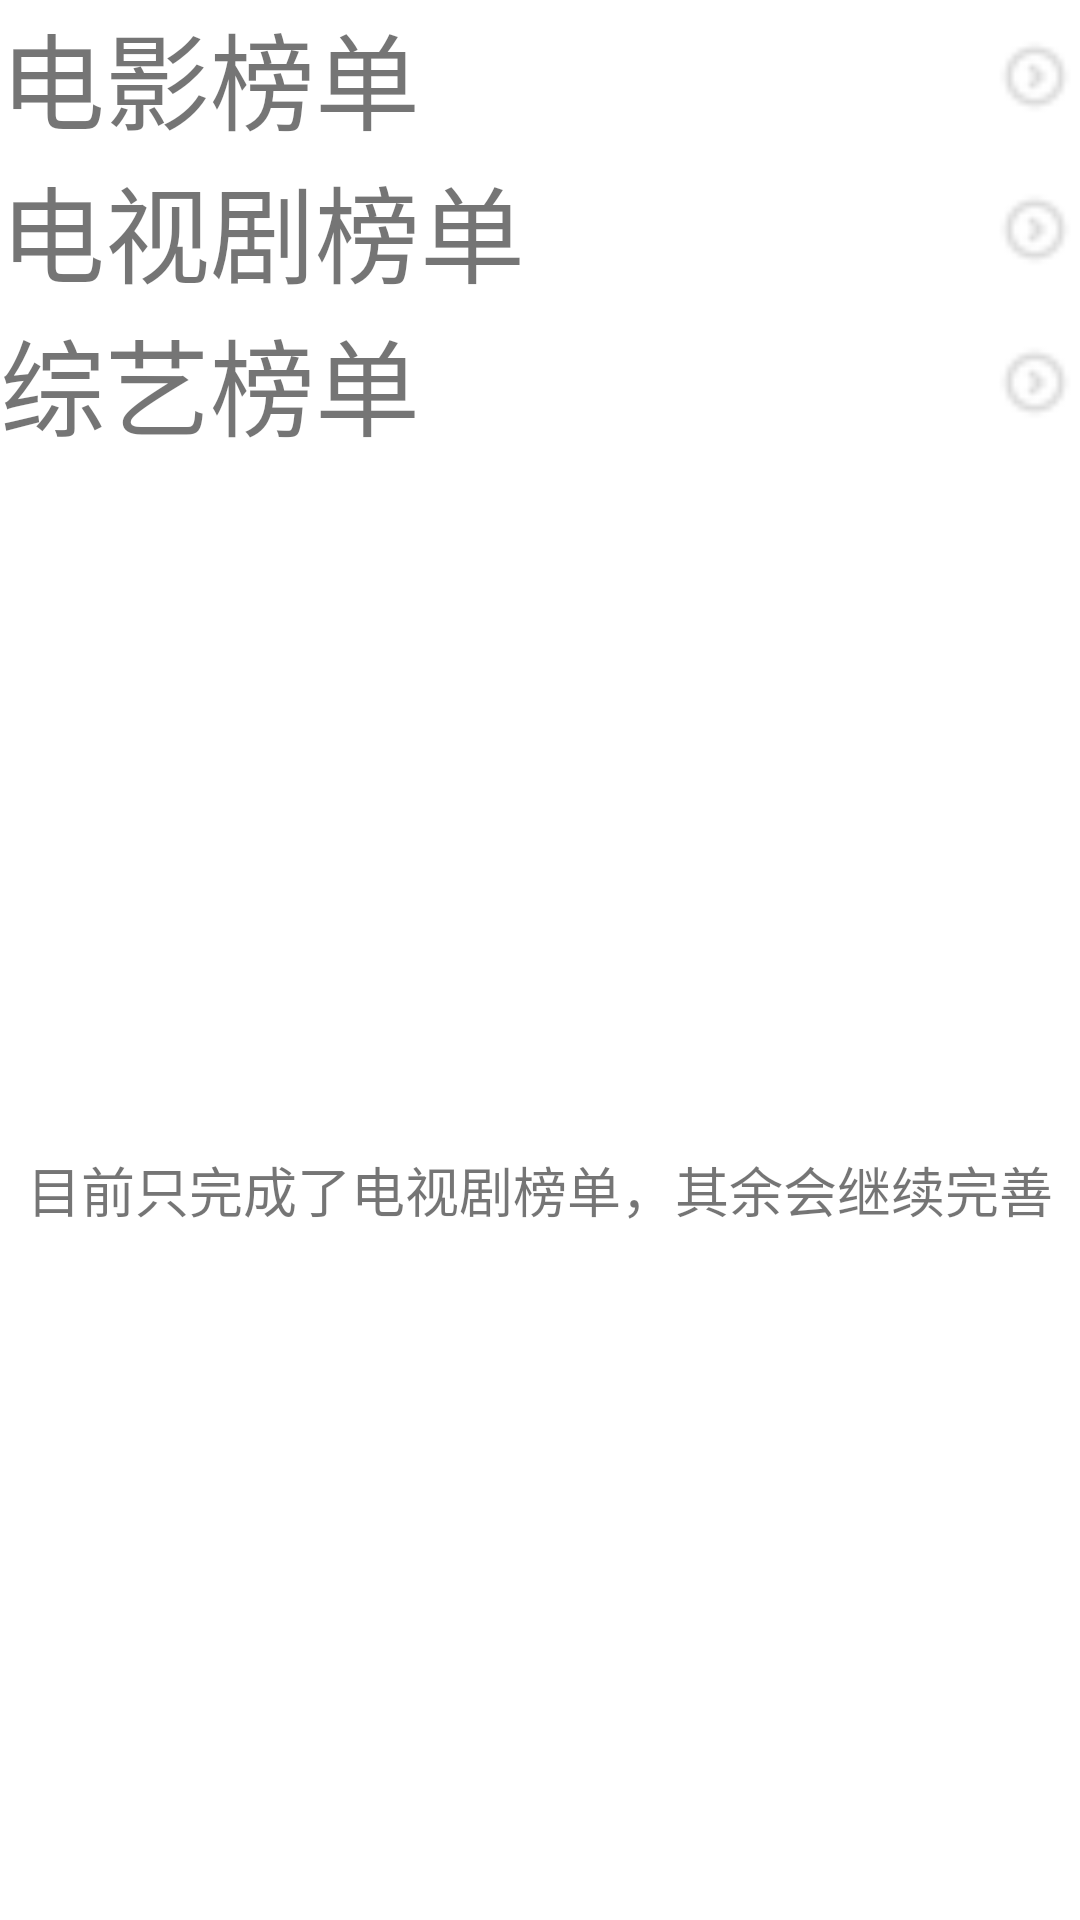

Icons on this 1080*1920 Android screen, each with the point to tap as (x=x, y=y):
right errow: (x=1035, y=76), (x=1035, y=229), (x=1035, y=382)
